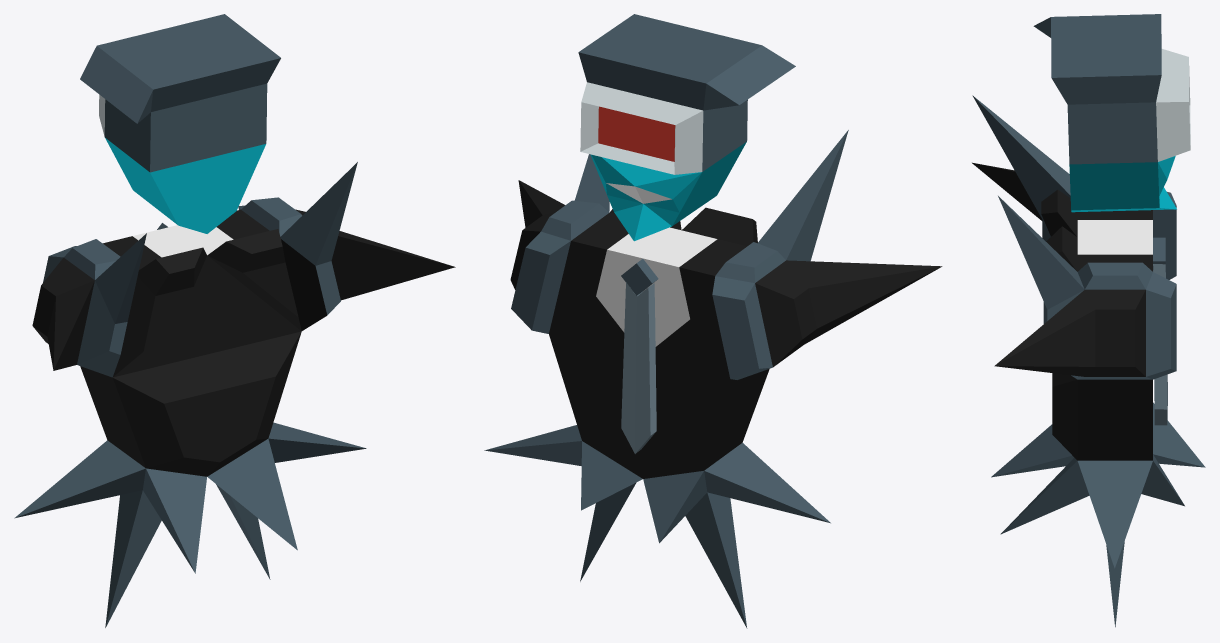
Rendered from doctor1.glb.
3 renders of one model, left to right at view 1: azimuth 30°, elevation 25°; view 2: azimuth 150°, elevation 25°; view 3: azimuth 270°, elevation 25°, orthographic. The views are drawn at different scales.
Visible parts, largest first — view 1: group867478967, group1547372039; view 2: group867478967, group1547372039; view 3: group867478967, group1547372039.
Boxes of the visible parts, x1,y1,x2,y2 form: group867478967: [14, 162, 455, 627]; group1547372039: [80, 14, 280, 233]; group867478967: [484, 130, 942, 628]; group1547372039: [578, 14, 795, 241]; group867478967: [972, 95, 1205, 627]; group1547372039: [1033, 14, 1190, 212].
Bounding box in the file's own units: 0.3721 × 0.482 × 0.1863.
